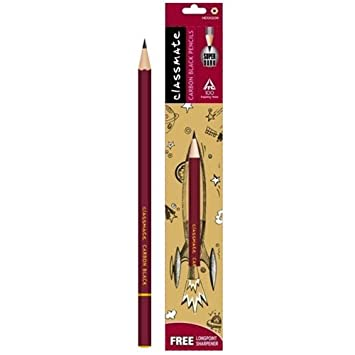pencil: (130, 24, 158, 352)
